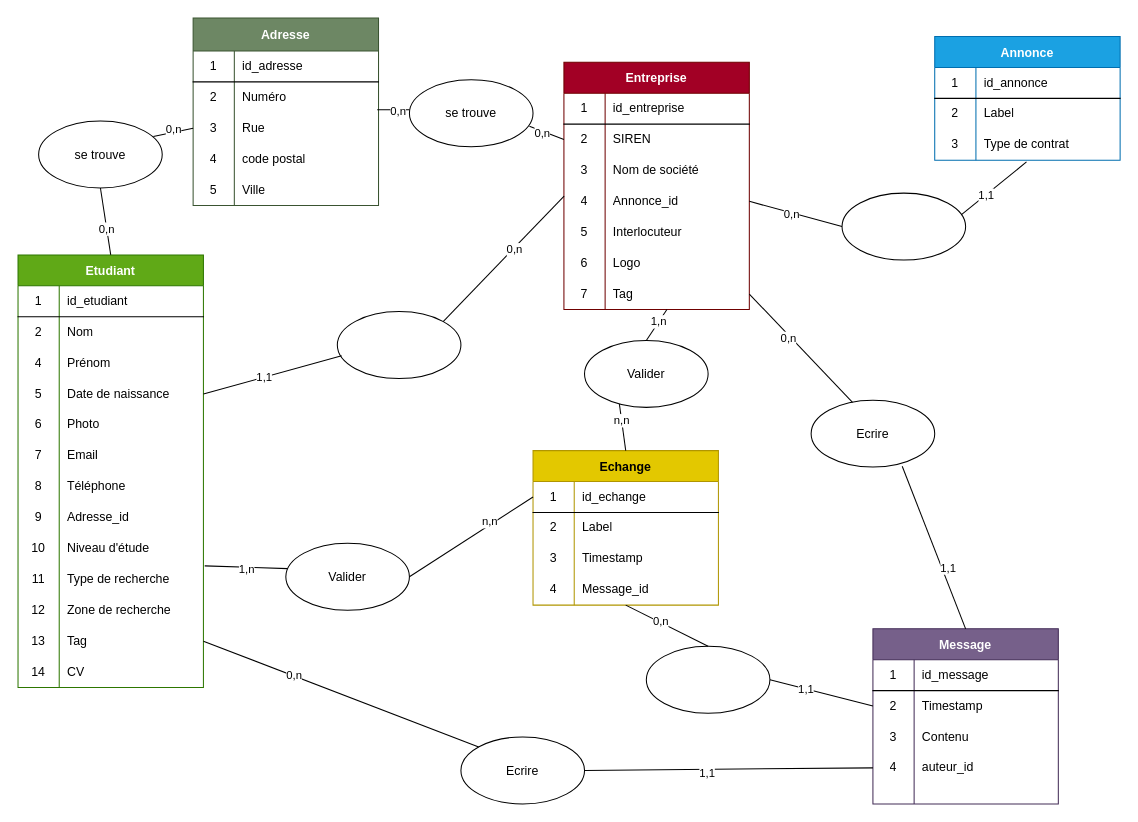
Image size: 1138x822. Some labels were removed from this diagram. Each missing label, with the centre of its shape:
Contient / Appartient: [707,679]
Créer: [903,226]
Recherche: [398,345]
